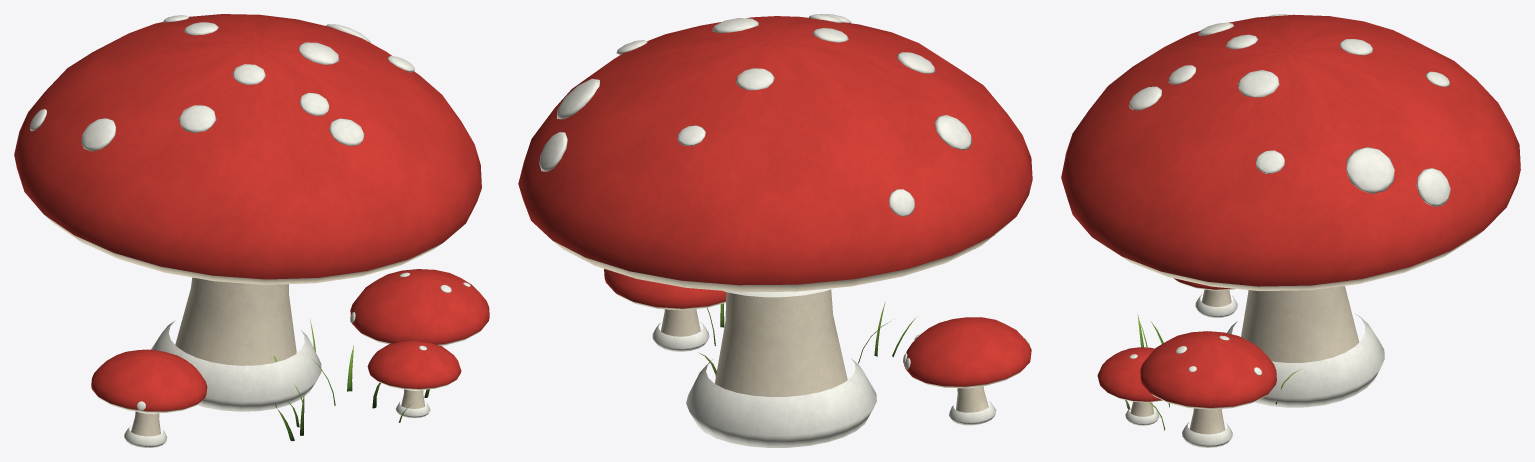
File: seta_gigante.gltf
The picture shows the model from 3 angles, left to right: view 1: azimuth 30°, elevation 25°; view 2: azimuth 150°, elevation 25°; view 3: azimuth 270°, elevation 25°; orthographic projection. The views are drawn at different scales.
Parts seen in each view (by area): view 1: seta_gigante; view 2: seta_gigante; view 3: seta_gigante.
Part boxes in pixels (box(x1,y1,x2,y2)): seta_gigante: box(14, 14, 489, 447); seta_gigante: box(518, 14, 1032, 447); seta_gigante: box(1061, 14, 1520, 447).
Size of the model in its own units: 2.47 by 1.97 by 2.47.
Materials: 4 (4 with a texture image).
